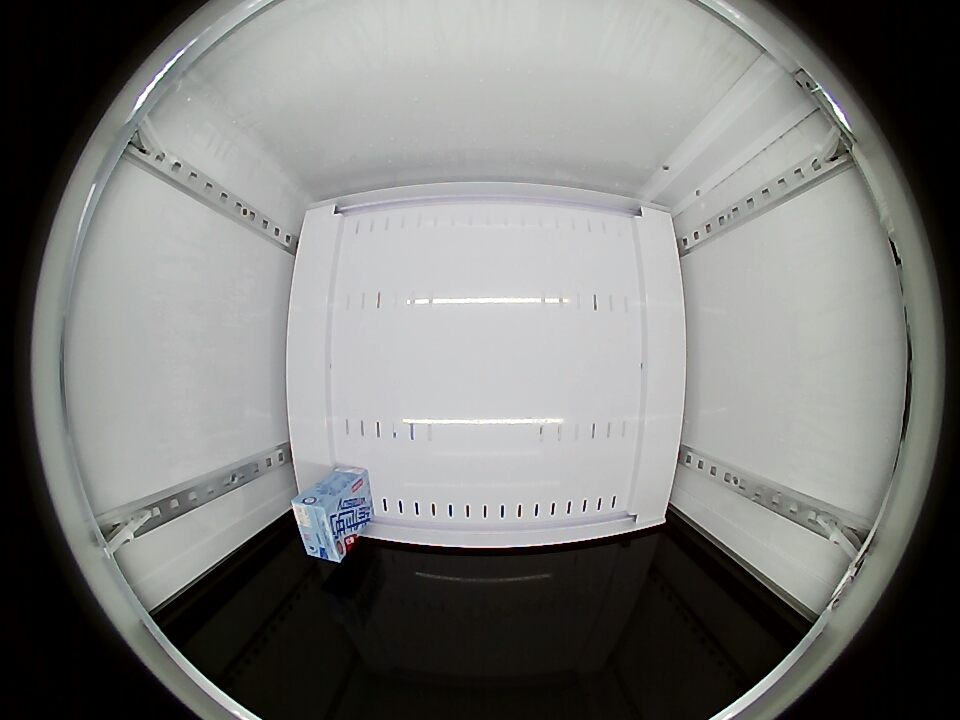weitanaiditang: (291, 490, 352, 563)
